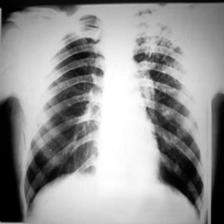tuberculosis: (15, 3, 211, 224)
